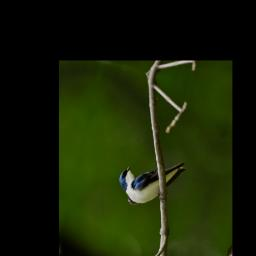Swallow: (114, 144, 188, 218)
